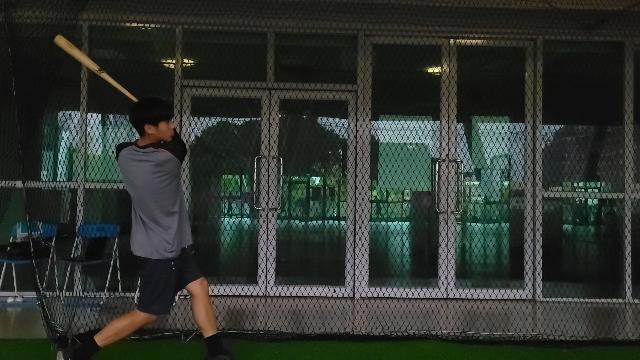baseball bat: (52, 33, 138, 102)
